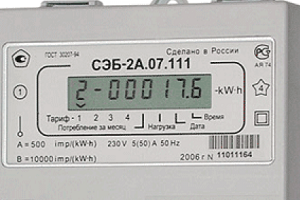counter: (1, 0, 293, 198)
counter_screen: (66, 72, 213, 111)
